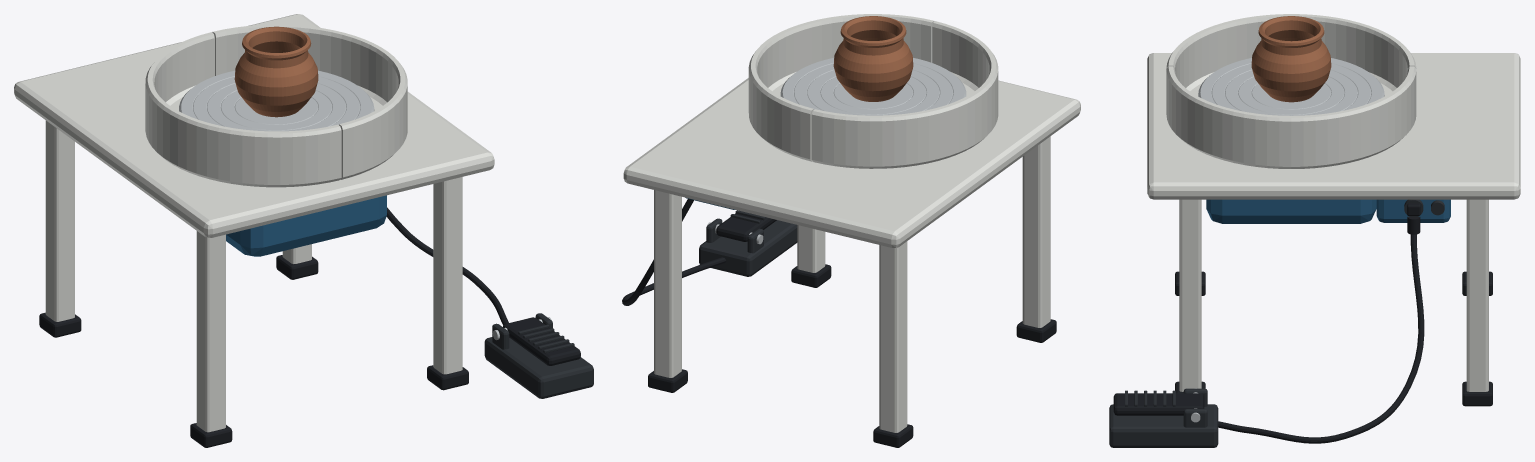
The picture shows the model from 3 angles, left to right: view 1: azimuth 30°, elevation 25°; view 2: azimuth 150°, elevation 25°; view 3: azimuth 270°, elevation 25°; orthographic projection. The views are drawn at different scales.
Parts seen in each view (by area): view 1: Worktable top, Splashpan left shell, Splashpan right shell, Rotating grooved wheelhead, Rotating original hollow clay vessel, Square leg -0.245 -0.27, Square leg 0.245 -0.27, Square leg -0.245 0.27, Motor housing, Pedal fixed base, Pedal moving rocker, Foot pedal signal cable (+4 smaller); view 2: Worktable top, Splashpan left shell, Splashpan right shell, Rotating grooved wheelhead, Rotating original hollow clay vessel, Square leg -0.245 0.27, Square leg -0.245 -0.27, Square leg 0.245 0.27, Pedal fixed base, Square leg 0.245 -0.27, Foot pedal signal cable, Pedal moving rocker (+4 smaller); view 3: Worktable top, Splashpan right shell, Splashpan left shell, Rotating grooved wheelhead, Rotating original hollow clay vessel, Square leg 0.245 0.27, Square leg 0.245 -0.27, Motor housing, Pedal fixed base, Foot pedal signal cable, Pedal moving rocker, Control side housing (+1 smaller).
Part boxes in pixels (x1=…): Worktable top: x1=14, y1=14, x2=494, y2=237; Splashpan left shell: x1=145, y1=32, x2=341, y2=187; Splashpan right shell: x1=212, y1=24, x2=407, y2=179; Rotating grooved wheelhead: x1=179, y1=70, x2=374, y2=131; Rotating original hollow clay vessel: x1=234, y1=26, x2=318, y2=117; Square leg -0.245 -0.27: x1=196, y1=231, x2=225, y2=432; Square leg 0.245 -0.27: x1=433, y1=177, x2=462, y2=374; Square leg -0.245 0.27: x1=45, y1=120, x2=74, y2=321; Motor housing: x1=226, y1=195, x2=386, y2=256; Pedal fixed base: x1=484, y1=337, x2=593, y2=398; Pedal moving rocker: x1=503, y1=317, x2=580, y2=365; Foot pedal signal cable: x1=386, y1=207, x2=508, y2=325; Worktable top: x1=623, y1=78, x2=1080, y2=247; Splashpan left shell: x1=811, y1=21, x2=998, y2=168; Splashpan right shell: x1=748, y1=14, x2=934, y2=161; Rotating grooved wheelhead: x1=780, y1=58, x2=966, y2=115; Rotating original hollow clay vessel: x1=833, y1=16, x2=913, y2=101; Square leg -0.245 0.27: x1=879, y1=241, x2=907, y2=432; Square leg -0.245 -0.27: x1=1022, y1=136, x2=1050, y2=327; Square leg 0.245 0.27: x1=654, y1=190, x2=681, y2=377; Pedal fixed base: x1=699, y1=220, x2=797, y2=276; Square leg 0.245 -0.27: x1=797, y1=225, x2=825, y2=272; Foot pedal signal cable: x1=622, y1=199, x2=725, y2=305; Pedal moving rocker: x1=716, y1=213, x2=776, y2=241; Worktable top: x1=1147, y1=53, x2=1520, y2=199; Splashpan right shell: x1=1166, y1=66, x2=1416, y2=168; Splashpan left shell: x1=1166, y1=14, x2=1416, y2=95; Rotating grooved wheelhead: x1=1198, y1=58, x2=1384, y2=115; Rotating original hollow clay vessel: x1=1251, y1=16, x2=1331, y2=102; Square leg 0.245 0.27: x1=1466, y1=199, x2=1488, y2=391; Square leg 0.245 -0.27: x1=1179, y1=199, x2=1201, y2=391; Motor housing: x1=1206, y1=199, x2=1376, y2=223; Pedal fixed base: x1=1109, y1=404, x2=1218, y2=447; Foot pedal signal cable: x1=1218, y1=234, x2=1424, y2=443; Pedal moving rocker: x1=1113, y1=393, x2=1204, y2=415; Control side housing: x1=1376, y1=199, x2=1450, y2=222.
Bounding box in the file's own units: 0.7785 × 0.657 × 0.7735.
